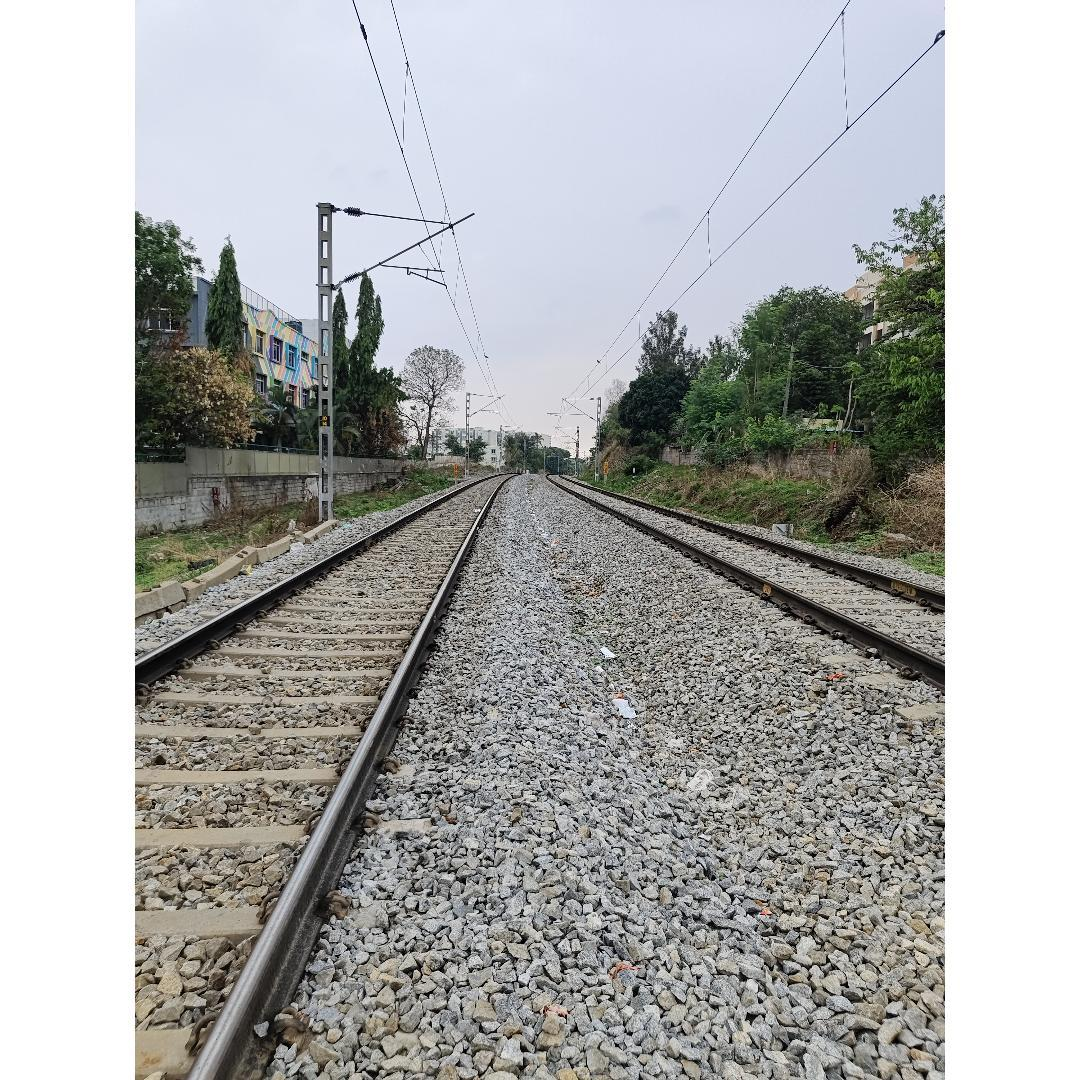track: (135, 464, 556, 1080), (527, 467, 945, 774)
